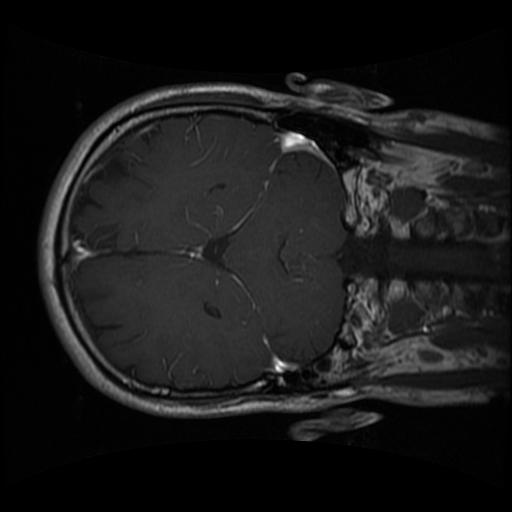glioma: (274, 233, 318, 286)
